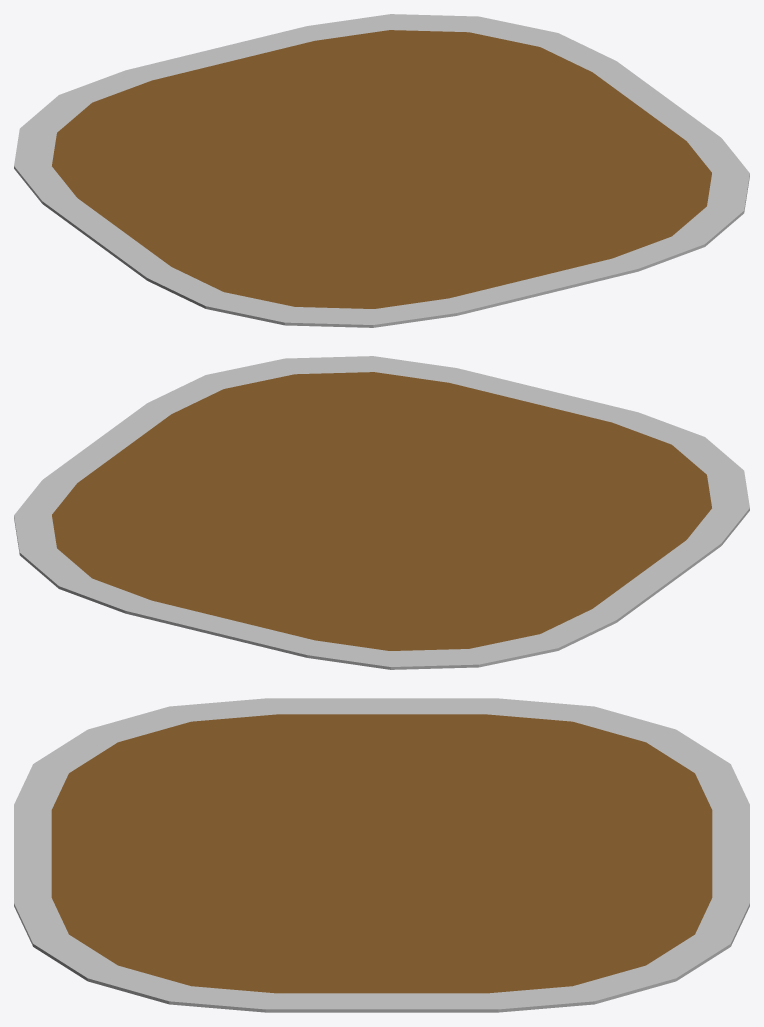
The model's file is Carpet_2.fbx.
3 views of the same model, one above another, from view 1: azimuth 30°, elevation 25°; view 2: azimuth 150°, elevation 25°; view 3: azimuth 270°, elevation 25° (orthographic). The views are drawn at different scales.
Visible parts, largest first — view 1: Carpet_2; view 2: Carpet_2; view 3: Carpet_2.
Boxes of the visible parts, bbox=[...] form: Carpet_2: bbox=[14, 14, 749, 327]; Carpet_2: bbox=[14, 356, 749, 669]; Carpet_2: bbox=[14, 698, 749, 1012].
Size of the model in its own units: 1.38 by 0.0065 by 1.38.
